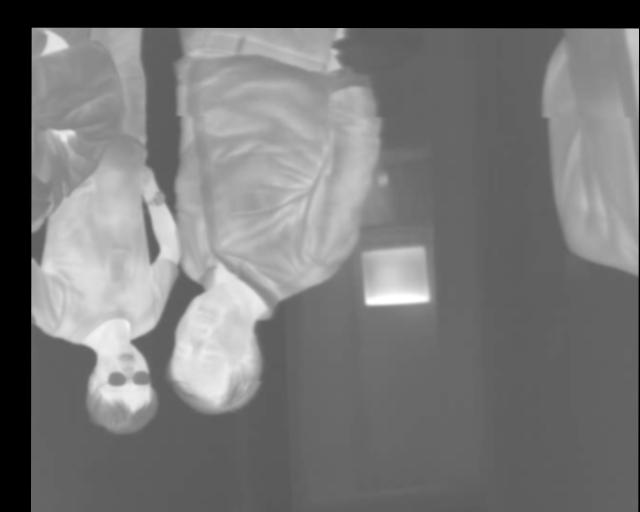face: (166, 289, 263, 415), (85, 341, 157, 435)
